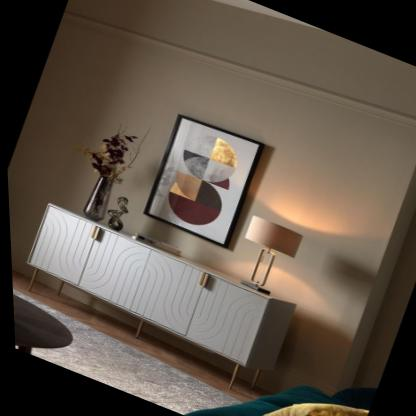Sideboard: (23, 203, 293, 391)
